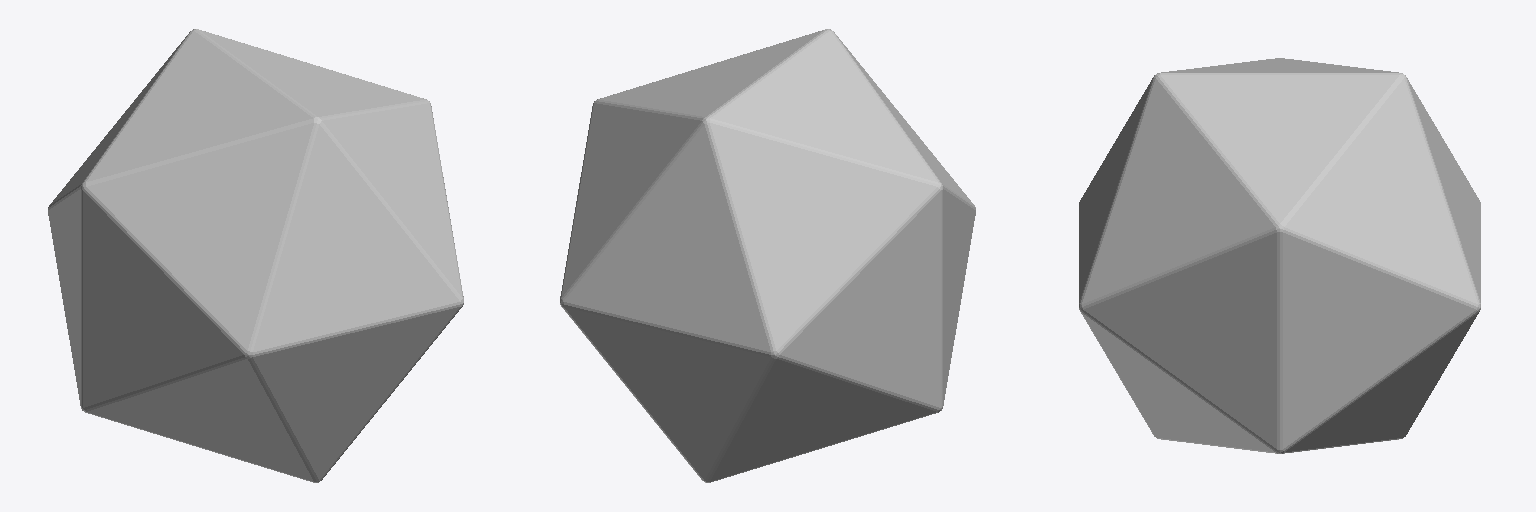
3 views of the same model, side by side, from view 1: azimuth 30°, elevation 25°; view 2: azimuth 150°, elevation 25°; view 3: azimuth 270°, elevation 25° (orthographic).
Visible parts, largest first — view 1: Icosahedron_2in.001; view 2: Icosahedron_2in.001; view 3: Icosahedron_2in.001.
Part boxes in pixels (x1,y1,x2,y2): Icosahedron_2in.001: (48,29,463,482); Icosahedron_2in.001: (560,29,975,482); Icosahedron_2in.001: (1079,58,1480,453).
Bounding box in the file's own units: 0.6977 × 0.6977 × 0.6977.